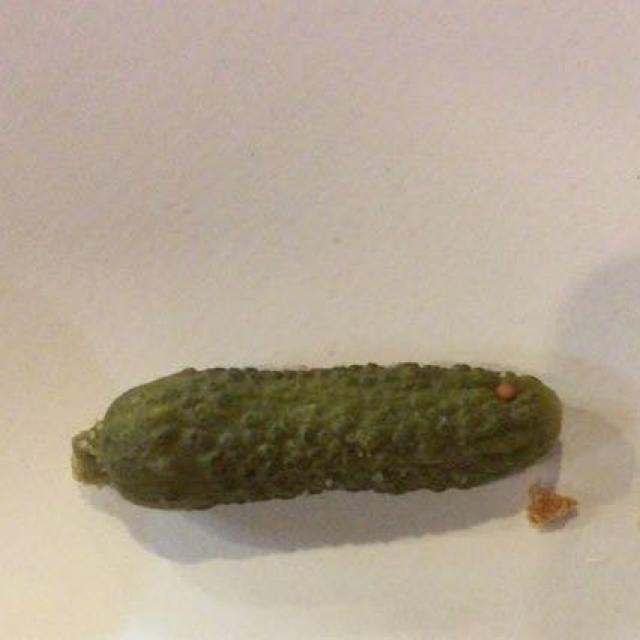cucumber-pickled: (76, 368, 558, 488)
